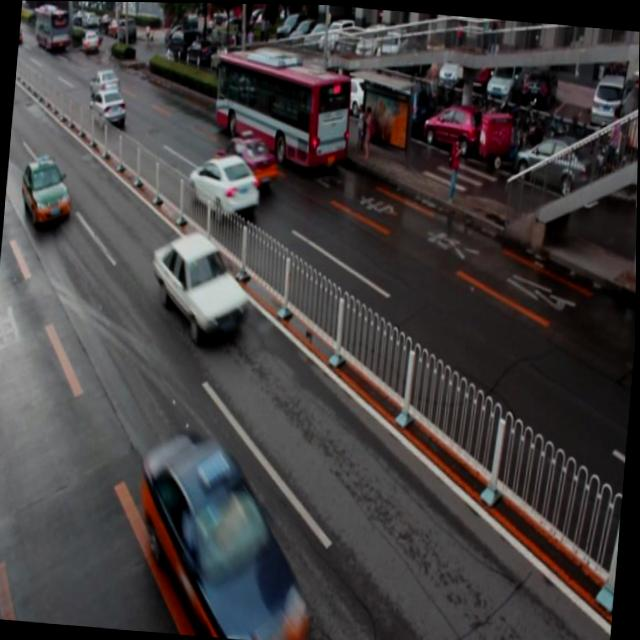car: (133, 426, 324, 640), (148, 228, 254, 342), (186, 149, 263, 221), (18, 153, 75, 229), (213, 130, 281, 190), (87, 86, 129, 132)
van: (210, 50, 354, 171)
